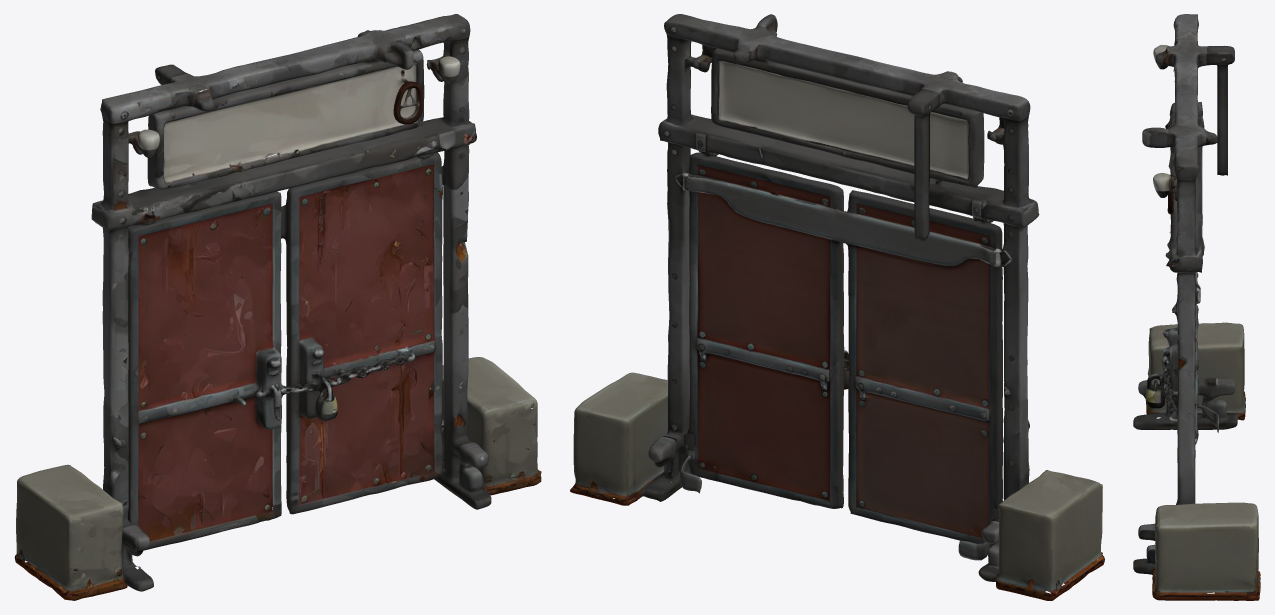
The model's file is g67_room_gate.glb.
3 renders of one model, left to right at view 1: azimuth 30°, elevation 25°; view 2: azimuth 150°, elevation 25°; view 3: azimuth 270°, elevation 25°, orthographic. The views are drawn at different scales.
Parts seen in each view (by area): view 1: tripo_node_4f49920c; view 2: tripo_node_4f49920c; view 3: tripo_node_4f49920c.
Part boxes in pixels (x1=…): tripo_node_4f49920c: x1=14, y1=14, x2=541, y2=600; tripo_node_4f49920c: x1=570, y1=14, x2=1104, y2=600; tripo_node_4f49920c: x1=1133, y1=14, x2=1260, y2=600.
Bounding box in the file's own units: 98.01 × 91.55 × 25.65.
Materials: 1 (1 with a texture image).
